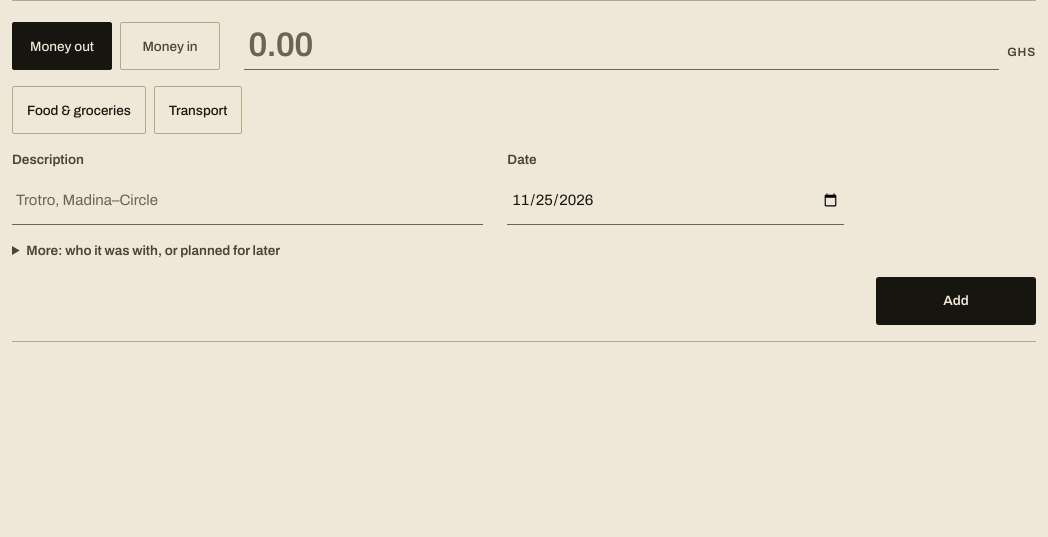
it: EntryForm › treats a day still to come as expected
Type "2099-01-01" into the date field labelled "Date" at (676, 201), box x1=507 y1=177 x2=844 y2=225
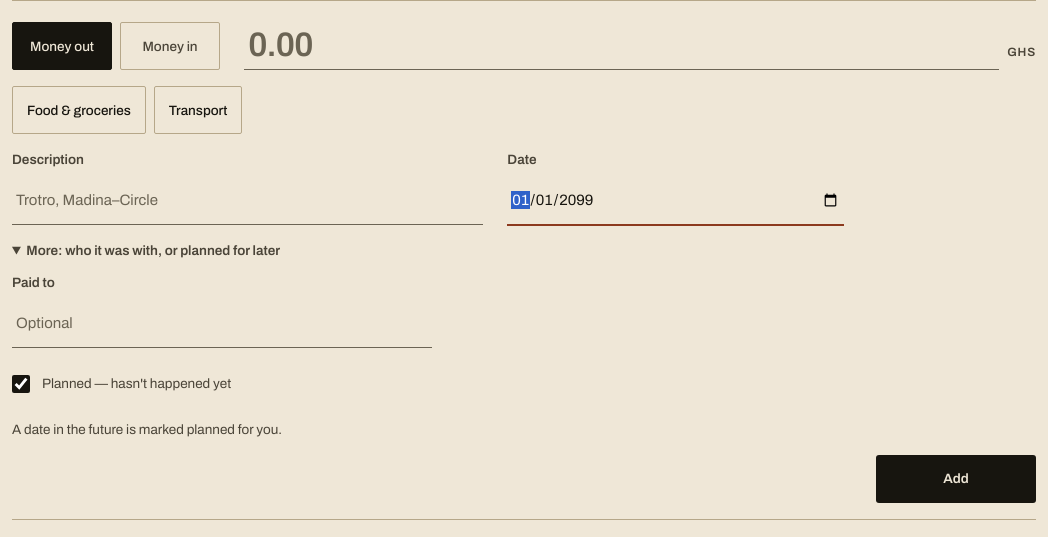
Now the checkbox is checked, box x1=12 y1=375 x2=30 y2=393
